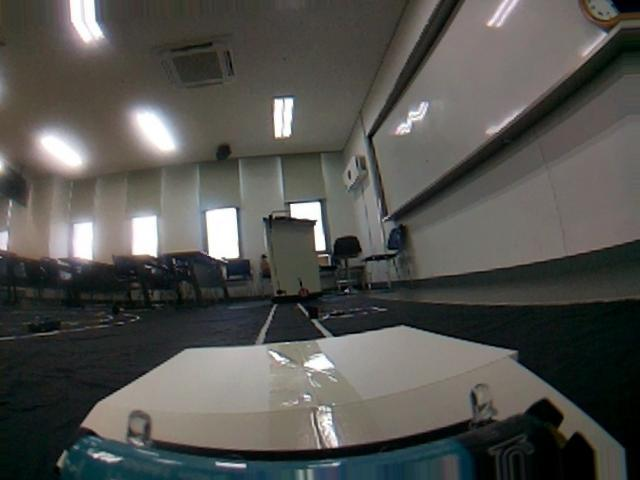hill_up: (36, 303, 640, 480)
